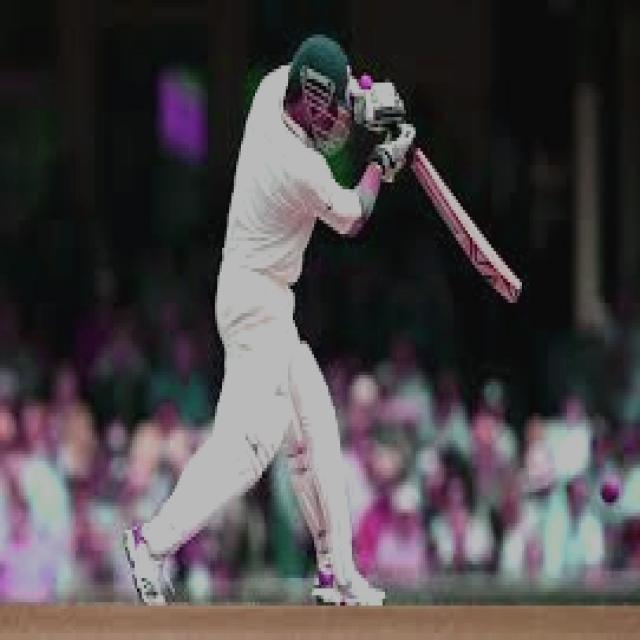bat: (409, 146, 532, 311)
toe: (505, 283, 525, 305)
